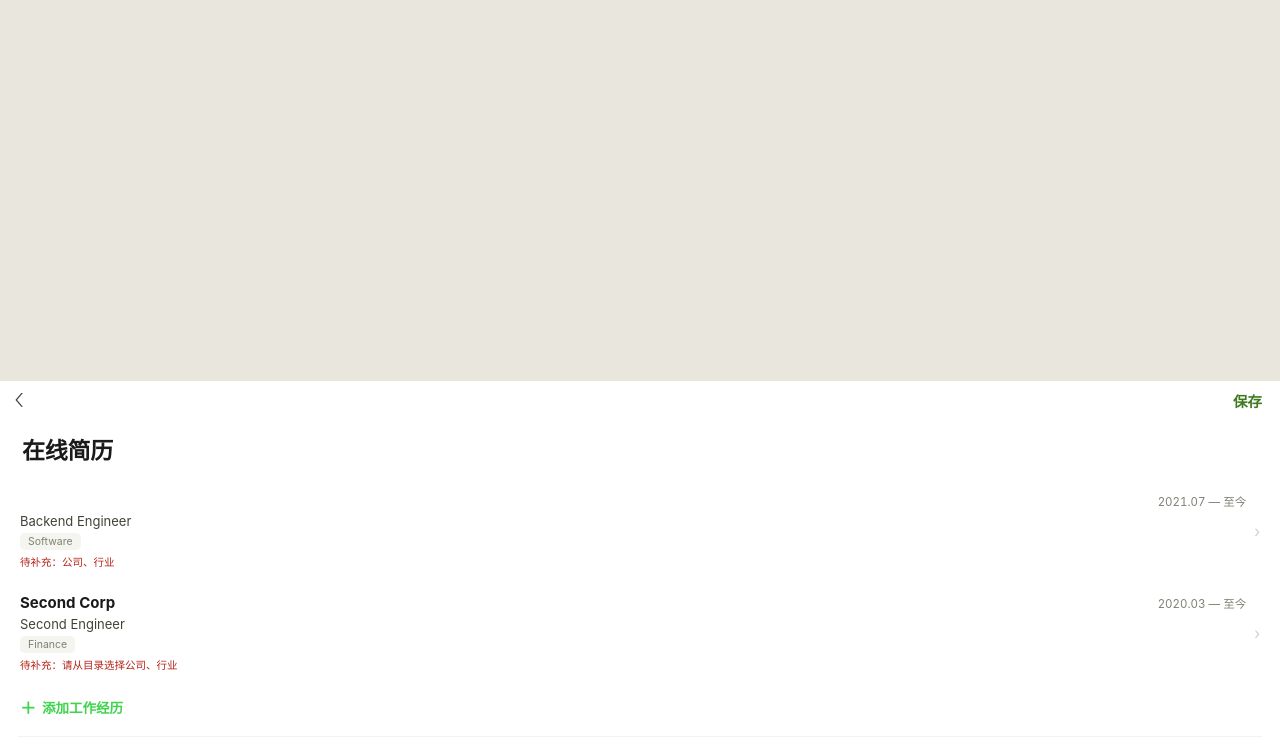
it: 工作经历 DF-002 缺项提示与保存首错定位 › 点保存打开第一条不完整经历、首错「公司」控件获焦、字段旁提示可见，不发无效保存
The width and height of the screenshot is (1280, 756).
(page scrolled)
Click the button "保存" at coordinates (1248, 400), box [1233,390,1262,410]
(page scrolled)
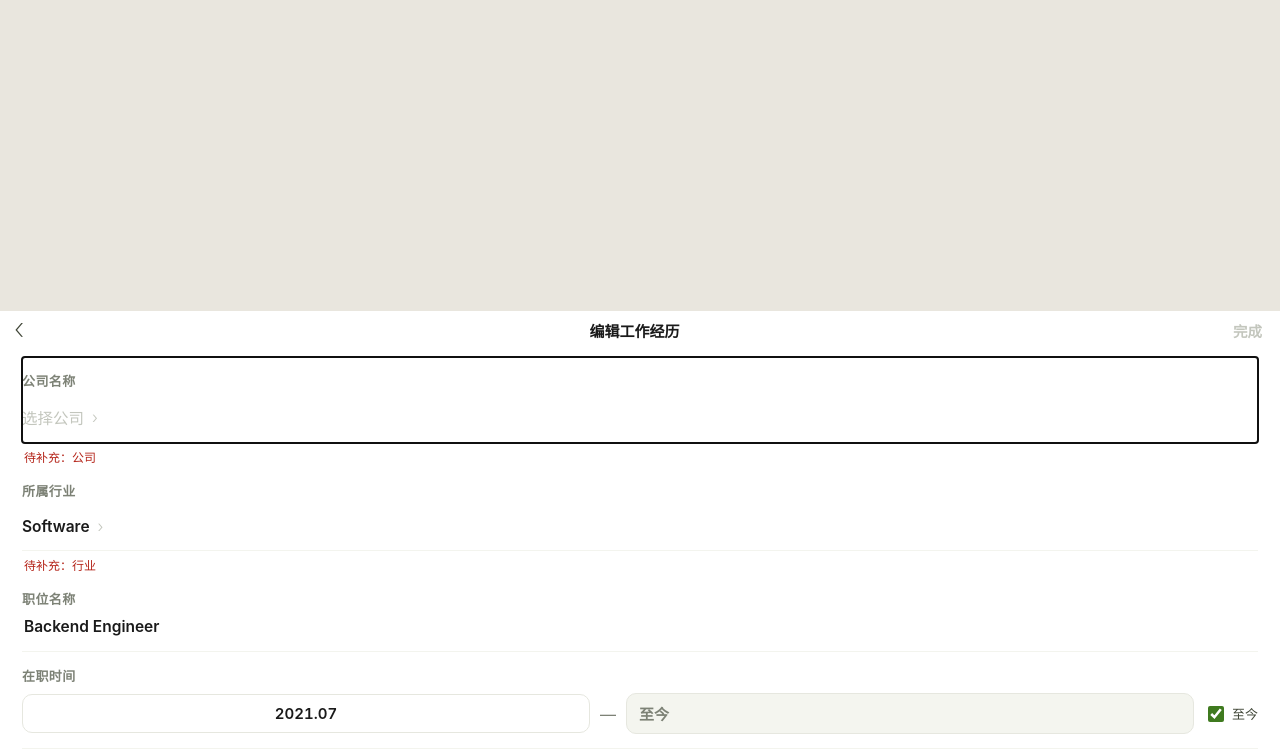
Expected: the text "待补充：公司" is shown, [24,450,96,465]
Now the field with placeholder "必填" holds "Backend Engineer", box [22,616,1258,637]
Now the text "待补充：行业" is shown, box [24,558,96,573]
